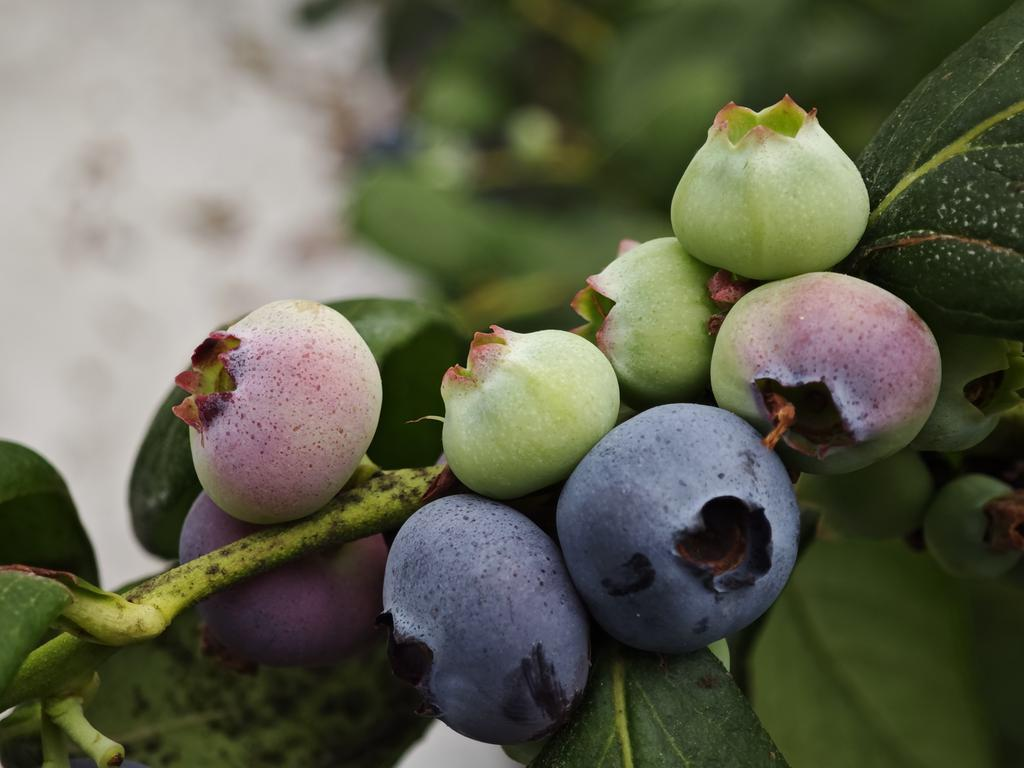RipeBlueBerry: (566, 403, 799, 649), (391, 496, 586, 742)
Semi-RipeBlueBerry: (176, 300, 383, 523), (711, 276, 942, 464)
UnripeBlueBerry: (668, 101, 866, 272), (439, 322, 614, 498)
